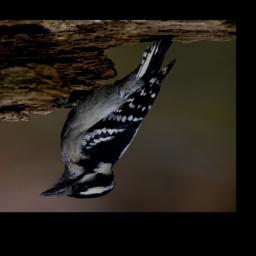Woodpecker: (39, 33, 177, 202)
